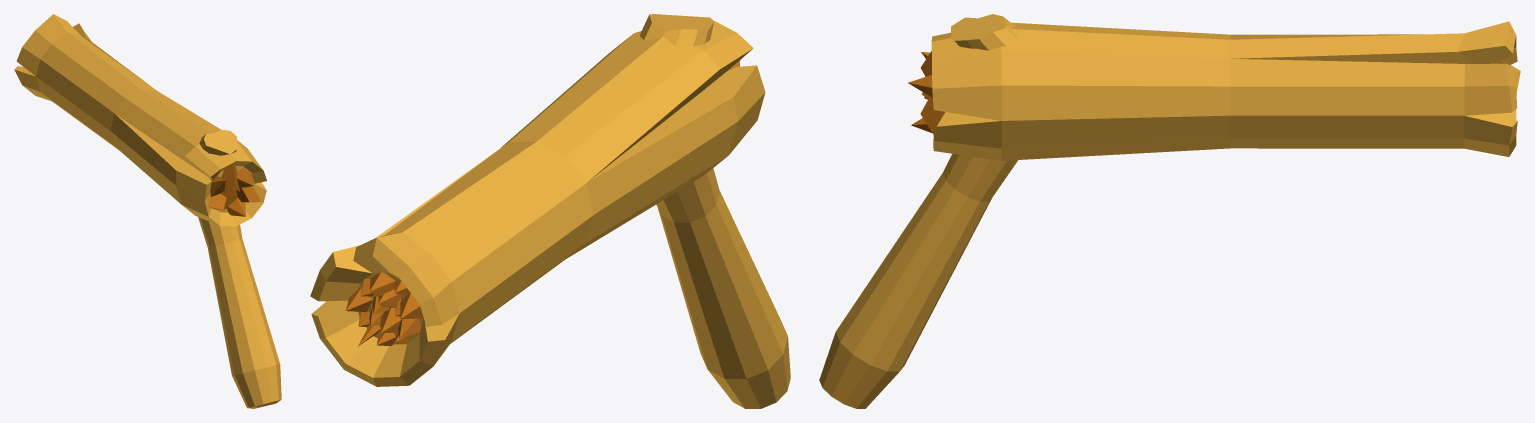
The model's file is Пистолет_Дигл_2_Цвет.fbx.
3 renders of one model, left to right at view 1: azimuth 30°, elevation 25°; view 2: azimuth 150°, elevation 25°; view 3: azimuth 270°, elevation 25°, orthographic. The views are drawn at different scales.
Parts seen in each view (by area): view 1: Цилиндр, Цилиндр.002, Цилиндр.001, Конус.001, Конус.006, Конус.005, Конус.003, Конус; view 2: Цилиндр, Цилиндр.002, Цилиндр.001, Конус.020, Конус.019; view 3: Цилиндр, Цилиндр.002, Цилиндр.001.
Part boxes in pixels (box(x1,y1,x2,y2)): Цилиндр: box(14, 14, 266, 226); Цилиндр.002: box(198, 217, 281, 408); Цилиндр.001: box(199, 129, 236, 155); Конус.001: box(235, 186, 260, 202); Конус.006: box(217, 163, 239, 191); Конус.005: box(237, 167, 253, 187); Конус.003: box(226, 197, 245, 216); Конус: box(209, 176, 225, 196); Цилиндр: box(310, 20, 765, 386); Цилиндр.002: box(656, 168, 790, 408); Цилиндр.001: box(640, 14, 713, 46); Конус.020: box(370, 272, 395, 296); Конус.019: box(400, 292, 422, 318); Цилиндр: box(931, 21, 1520, 160); Цилиндр.002: box(819, 154, 1017, 408); Цилиндр.001: box(951, 14, 1017, 50).
Size of the model in its own units: 229 by 693 by 1150.
